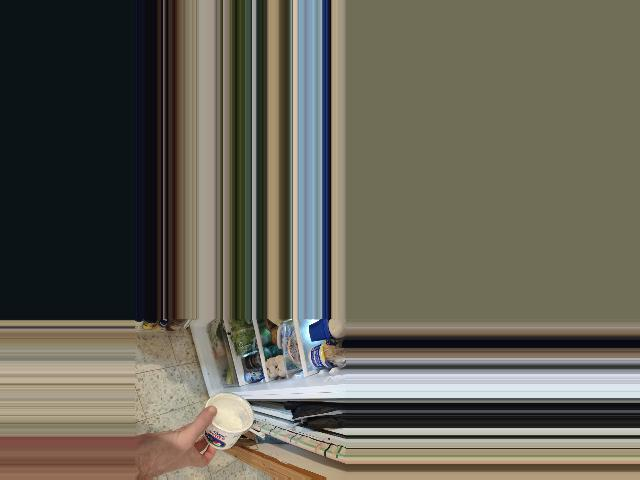cotage: (199, 392, 254, 452)
